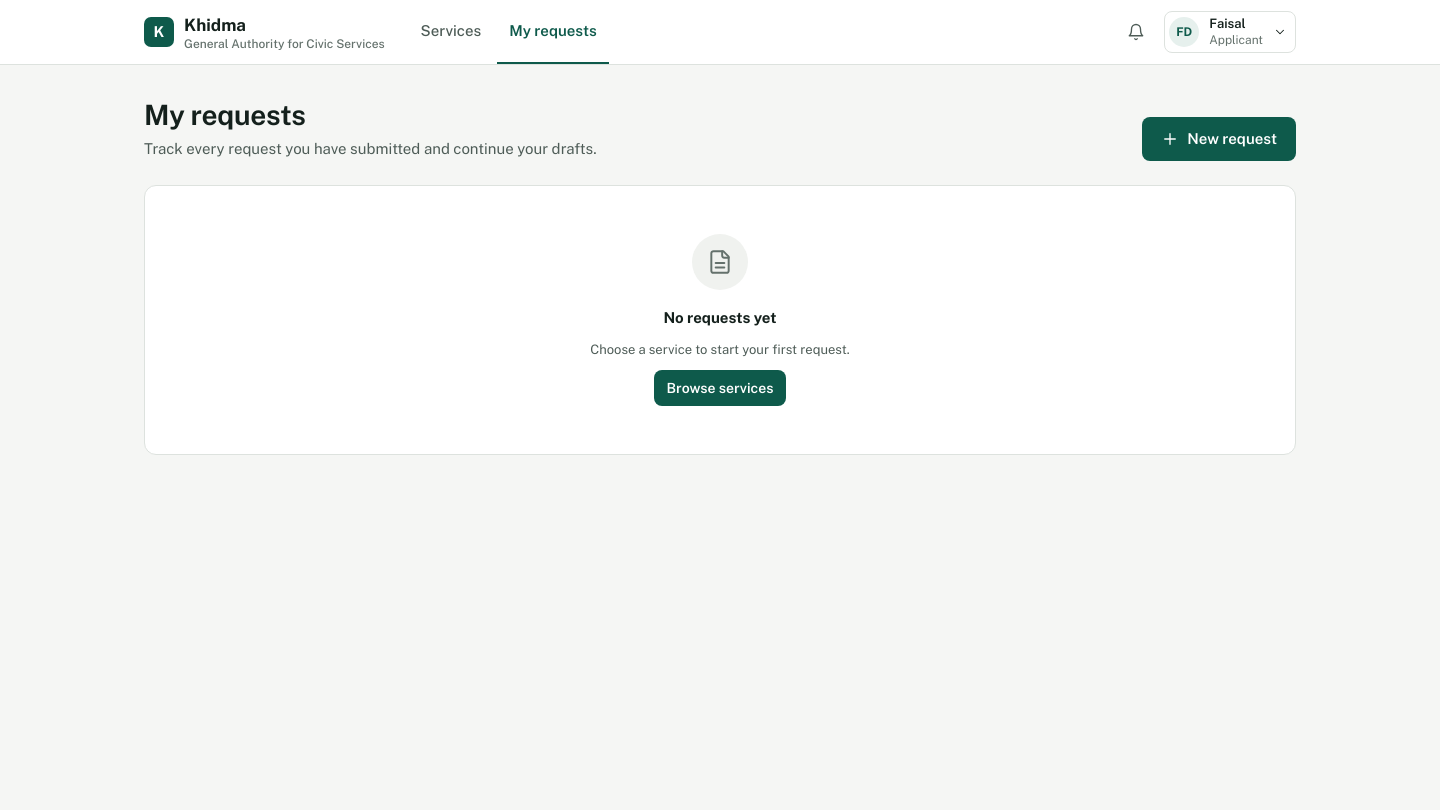
Scenario: role guards (F-02, BR-18, PQ-08) › signs out from the account menu and returns to /login
What coordinates should you click on to do the following:
click the button with aria-label "Account menu"
I would click on:
 (1230, 32)
Its box is [1164,11,1296,53].
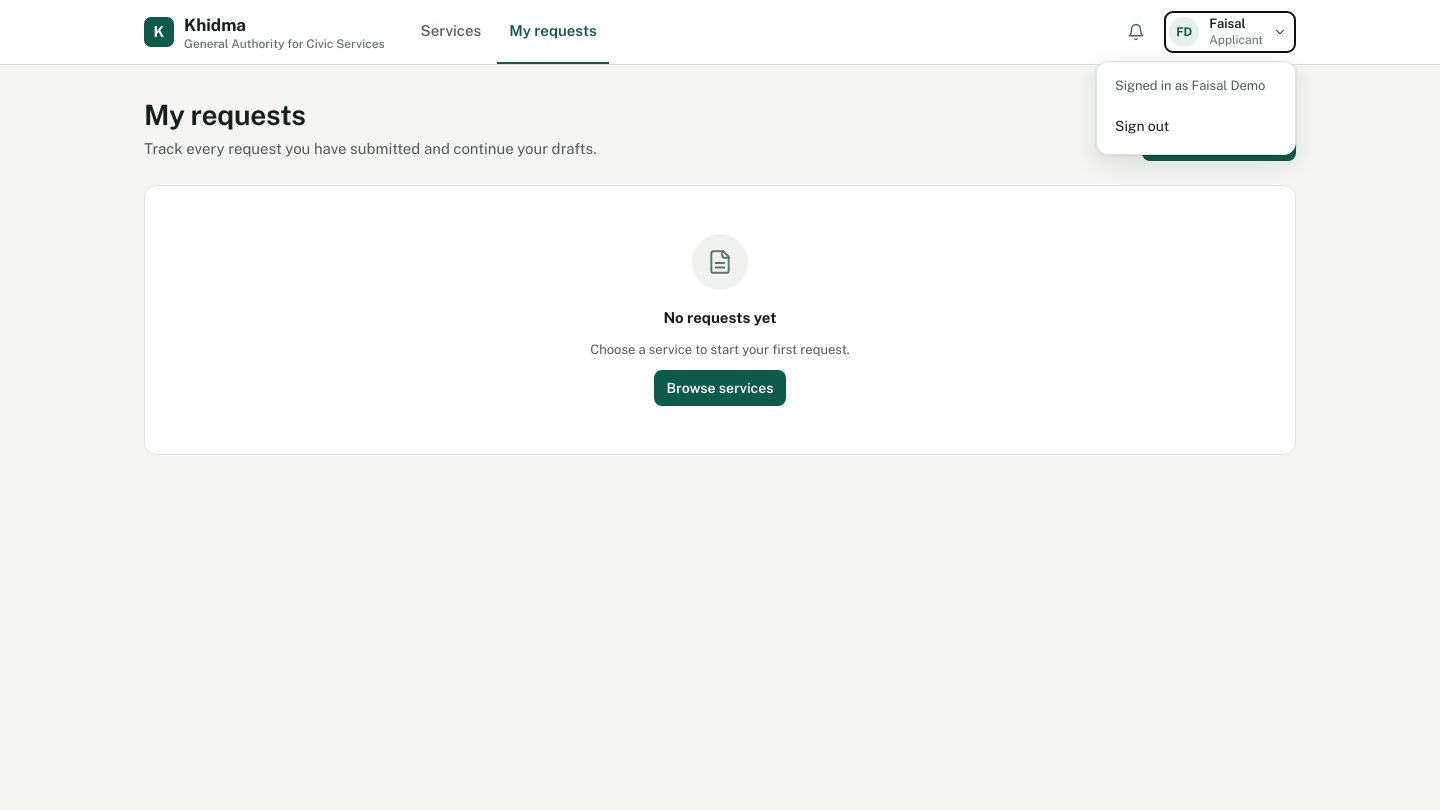
What coordinates should you click on to do the following:
click the menu item "Sign out"
I would click on:
 (1196, 126)
Its box is [1103,104,1289,148].
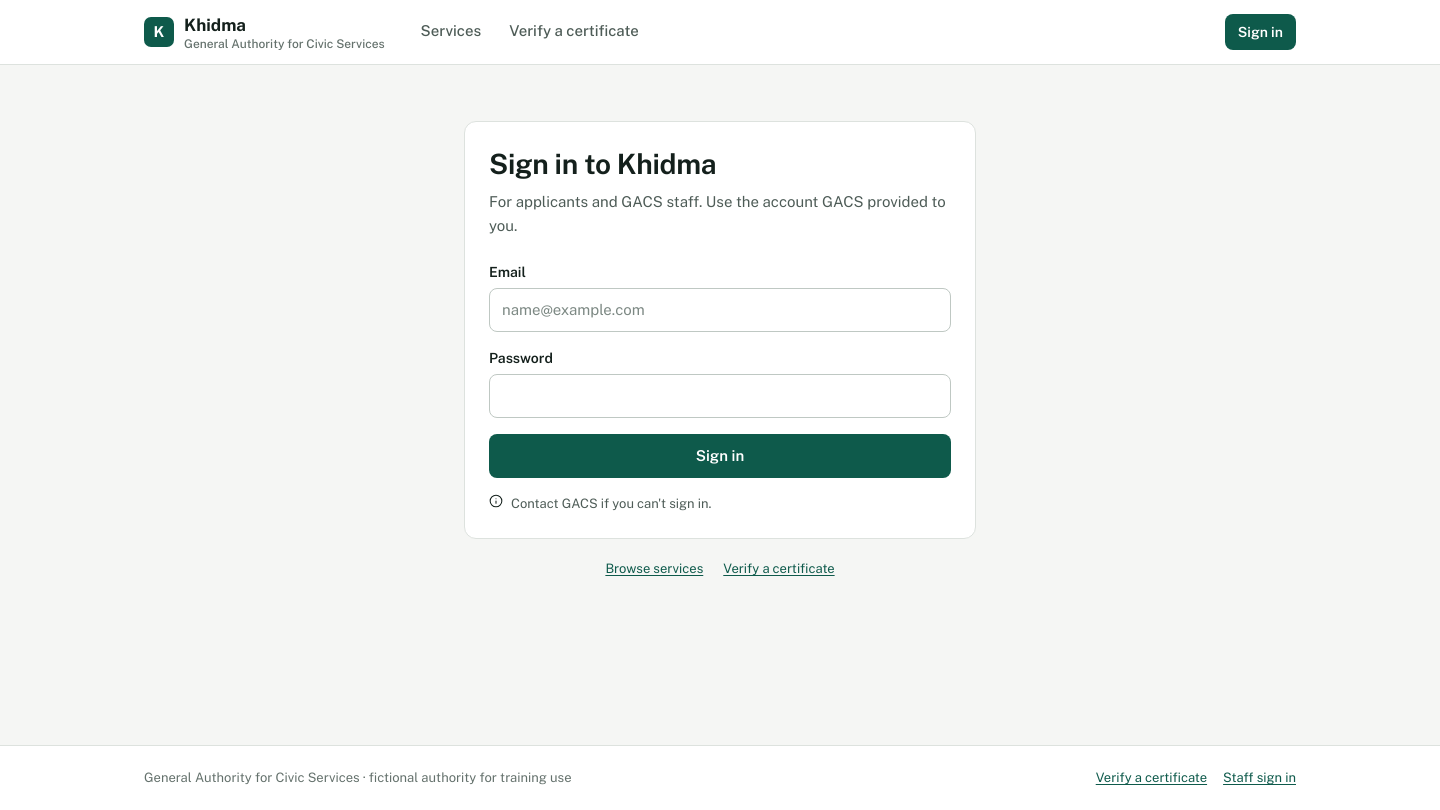
Result: the heading "Sign in to Khidma" is shown at [489,147,716,180]
